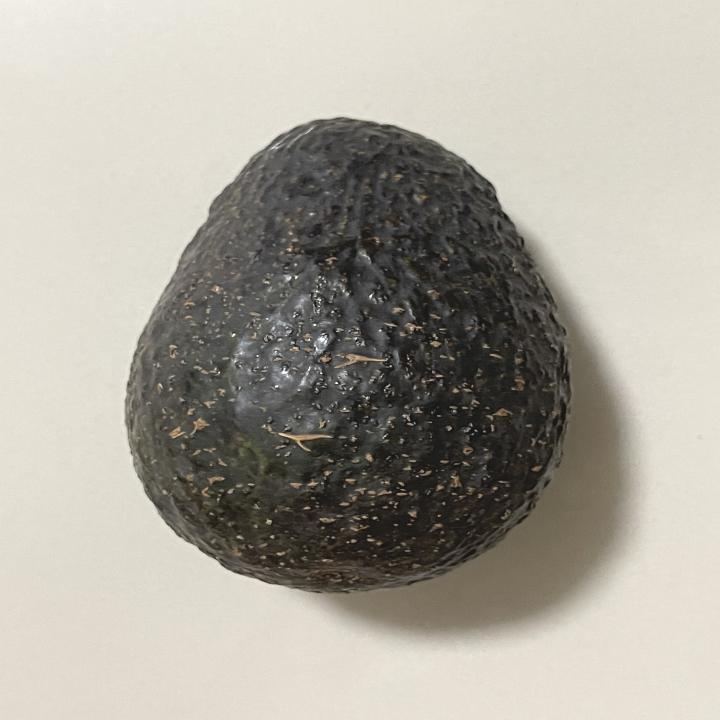Level3: (113, 107, 584, 603)
